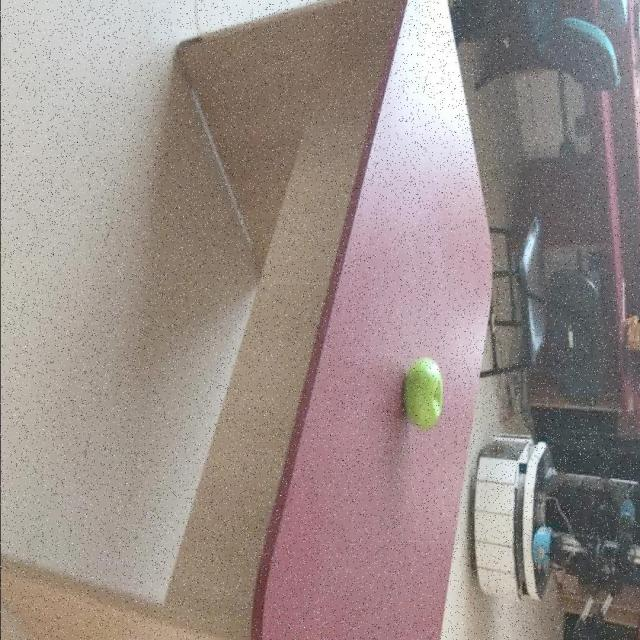Apple: (403, 355, 444, 428)
